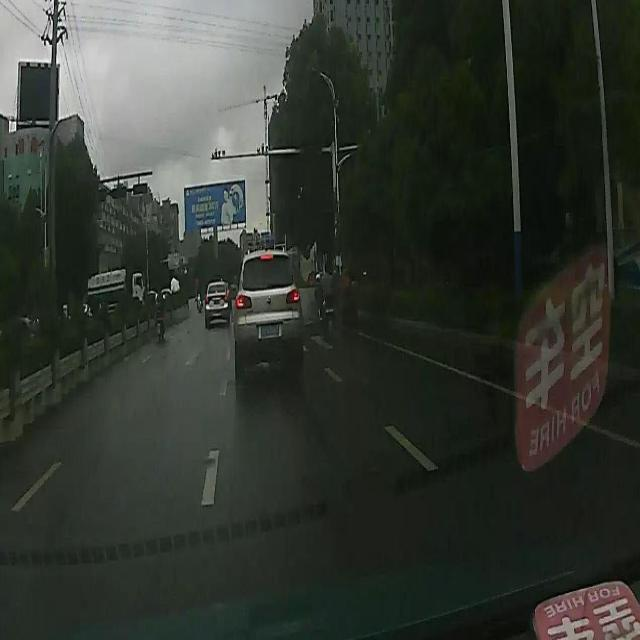car: (234, 246, 304, 375), (203, 278, 228, 326)
